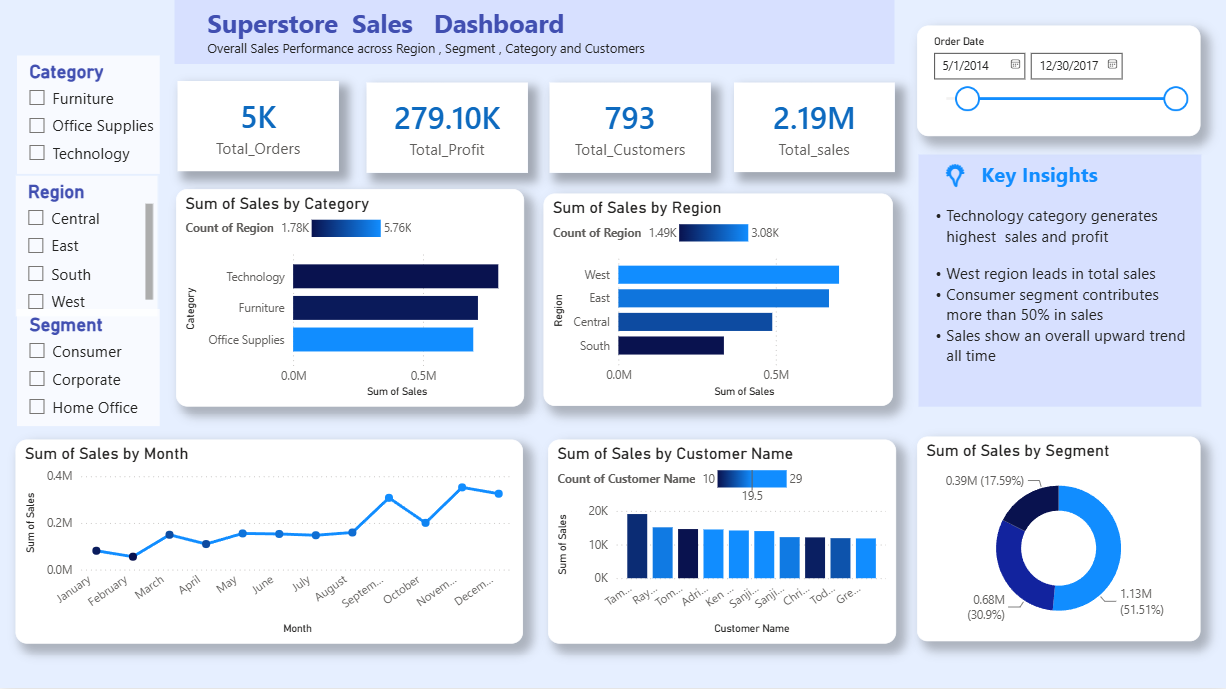

This screenshot's page, from the dashboard's own definition file:
{"tool":"powerbi","page":{"name":"Page 1","canvas":[1280,720],"ordinal":0},"visuals":[{"type":"cardVisual","fields":{"Data":["superstore_cleaned (1).Total_sales"]},"box":[766.2,88.6,167.8,93.3],"z":0},{"type":"cardVisual","fields":{"Data":["superstore_cleaned (1).Total_Orders"]},"box":[186.5,87.8,168.6,94.3],"z":1000},{"type":"cardVisual","fields":{"Data":["superstore_cleaned (1).Total_Customers"]},"box":[573.1,88.3,168,94],"z":2000},{"type":"cardVisual","fields":{"Data":["superstore_cleaned (1).Total_Profit"]},"box":[383.1,88.3,168,94],"z":3000},{"type":"barChart","fields":{"Category":["superstore_cleaned (1).Category"],"Y":["Sum(superstore_cleaned (1).Sales)"]},"box":[183.9,200,362.5,226.8],"z":4000},{"type":"clusteredBarChart","fields":{"Category":["superstore_cleaned (1).Region"],"Y":["Sum(superstore_cleaned (1).Sales)"]},"box":[567.9,205.4,364.3,221.4],"z":5000},{"type":"lineChart","fields":{"Y":["Sum(superstore_cleaned (1).Sales)"],"Category":["superstore_cleaned (1).Order Date.Variation.Date Hierarchy.Month"]},"box":[17.9,460.7,528.6,212.5],"z":6000},{"type":"slicer","fields":{"Values":["superstore_cleaned (1).Region"]},"box":[17.9,185.7,148.2,146.4],"z":7000},{"type":"slicer","fields":{"Values":["superstore_cleaned (1).Category"]},"box":[18.3,61.7,148.3,123.3],"z":8000},{"type":"slicer","fields":{"Values":["superstore_cleaned (1).Segment"]},"box":[18.3,325,148.3,121.7],"z":9000},{"type":"donutChart","fields":{"Category":["superstore_cleaned (1).Segment"],"Y":["Sum(superstore_cleaned (1).Sales)"]},"box":[956.7,458.3,295,213.3],"z":10000},{"type":"columnChart","fields":{"Category":["superstore_cleaned (1).Customer Name"],"Y":["Sum(superstore_cleaned (1).Sales)"]},"box":[571.4,460.7,362.5,212.5],"z":11000},{"type":"slicer","fields":{"Values":["superstore_cleaned (1).Order Date"]},"box":[956.7,30,295,115],"z":12000},{"type":"textbox","box":[957.1,164.3,294.6,262.5],"z":13000},{"type":"textbox","box":[183.3,3.3,750,66.7],"z":14000}]}

Visuals, with their boxes in screenshot pixels (x1, y1, x2, y2), scaled from the page's 1280x720 canvas onto the 1226x689 screenshot:
cardVisual - superstore_cleaned (1).Total_sales: 734/85/895/174
cardVisual - superstore_cleaned (1).Total_Orders: 179/84/340/174
cardVisual - superstore_cleaned (1).Total_Customers: 549/84/710/174
cardVisual - superstore_cleaned (1).Total_Profit: 367/84/528/174
barChart - superstore_cleaned (1).Category x Sum(superstore_cleaned (1).Sales): 176/191/523/408
clusteredBarChart - superstore_cleaned (1).Region x Sum(superstore_cleaned (1).Sales): 544/197/893/408
lineChart - Sum(superstore_cleaned (1).Sales) x superstore_cleaned (1).Order Date.Variation.Date Hierarchy.Month: 17/441/523/644
slicer - superstore_cleaned (1).Region: 17/178/159/318
slicer - superstore_cleaned (1).Category: 18/59/160/177
slicer - superstore_cleaned (1).Segment: 18/311/160/427
donutChart - superstore_cleaned (1).Segment x Sum(superstore_cleaned (1).Sales): 916/439/1199/643
columnChart - superstore_cleaned (1).Customer Name x Sum(superstore_cleaned (1).Sales): 547/441/895/644
slicer - superstore_cleaned (1).Order Date: 916/29/1199/139
textbox: 917/157/1199/408
textbox: 176/3/894/67
